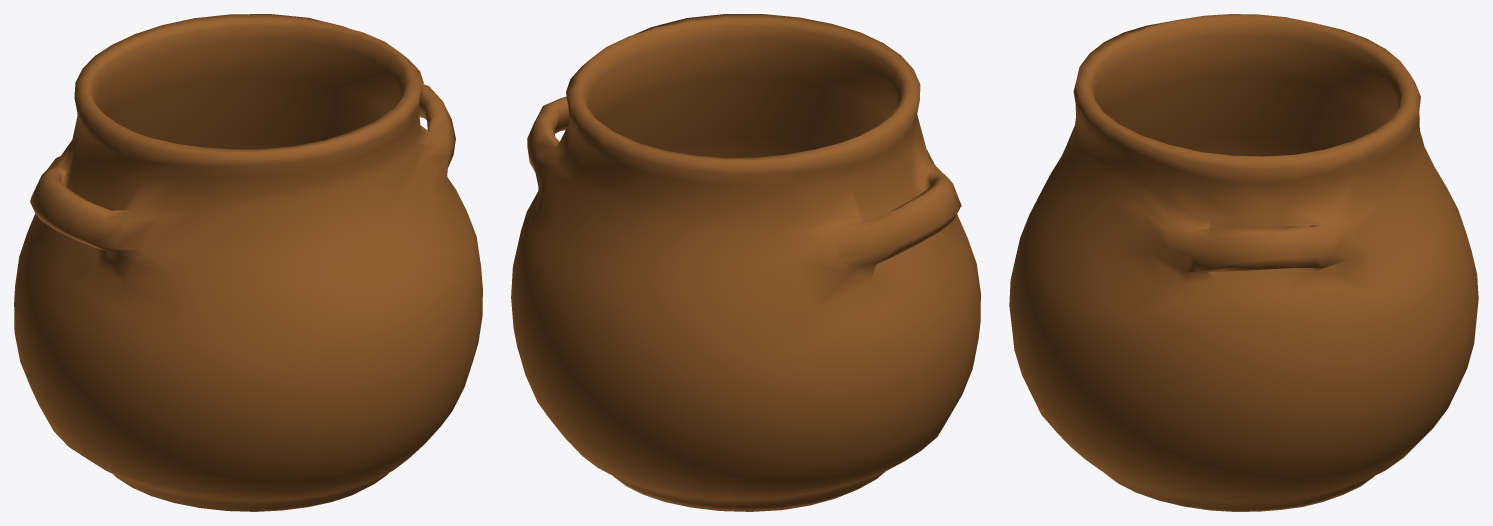
The model's file is museum_assets_1.fbx.
3 renders of one model, left to right at view 1: azimuth 30°, elevation 25°; view 2: azimuth 150°, elevation 25°; view 3: azimuth 270°, elevation 25°, orthographic.
Parts seen in each view (by area): view 1: amfora_3; view 2: amfora_3; view 3: amfora_3.
Part boxes in pixels (bbox=[...]): amfora_3: bbox=[14, 14, 482, 511]; amfora_3: bbox=[511, 14, 980, 511]; amfora_3: bbox=[1009, 14, 1478, 511].
Bounding box in the file's own units: 0.5187 × 0.4496 × 0.5183.
